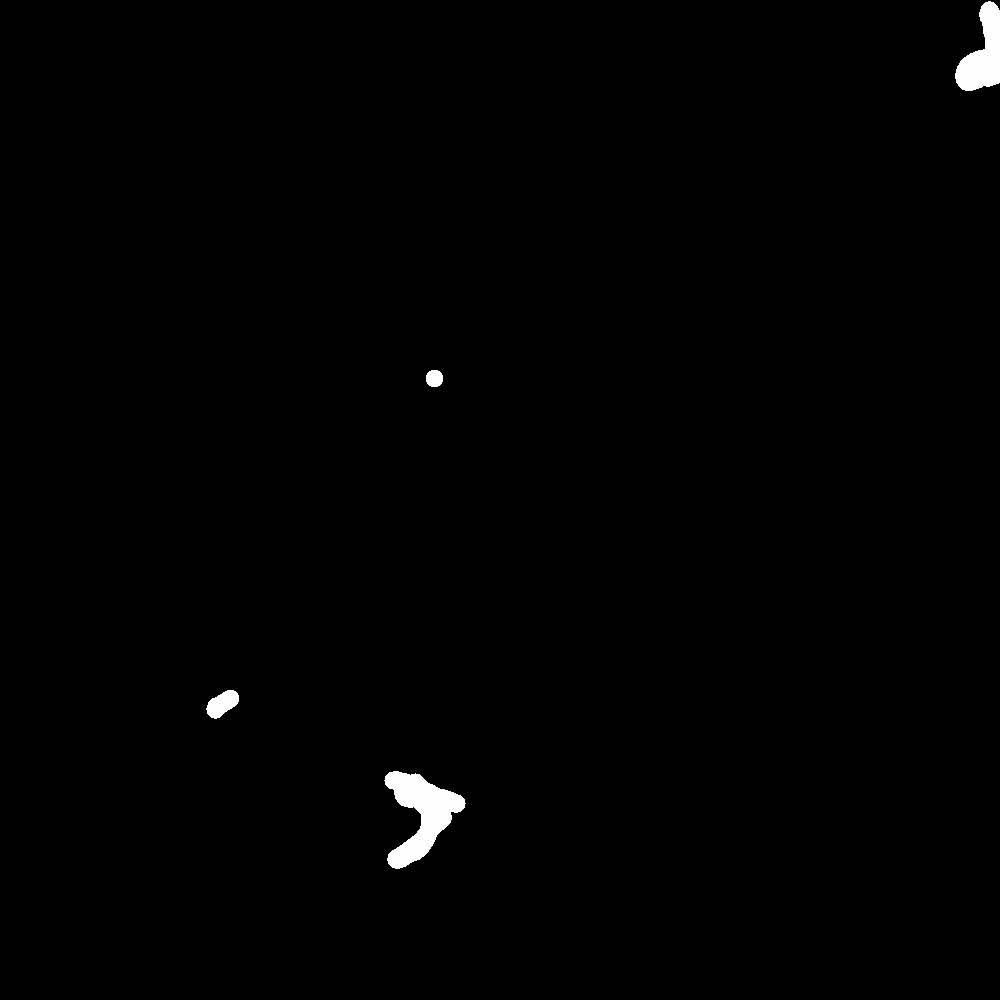illegal: (967, 1, 1000, 83), (424, 369, 441, 390)
